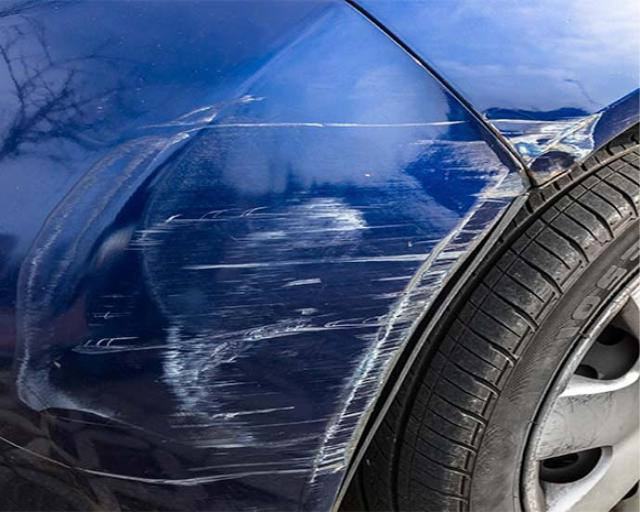scratch: (3, 80, 608, 502)
